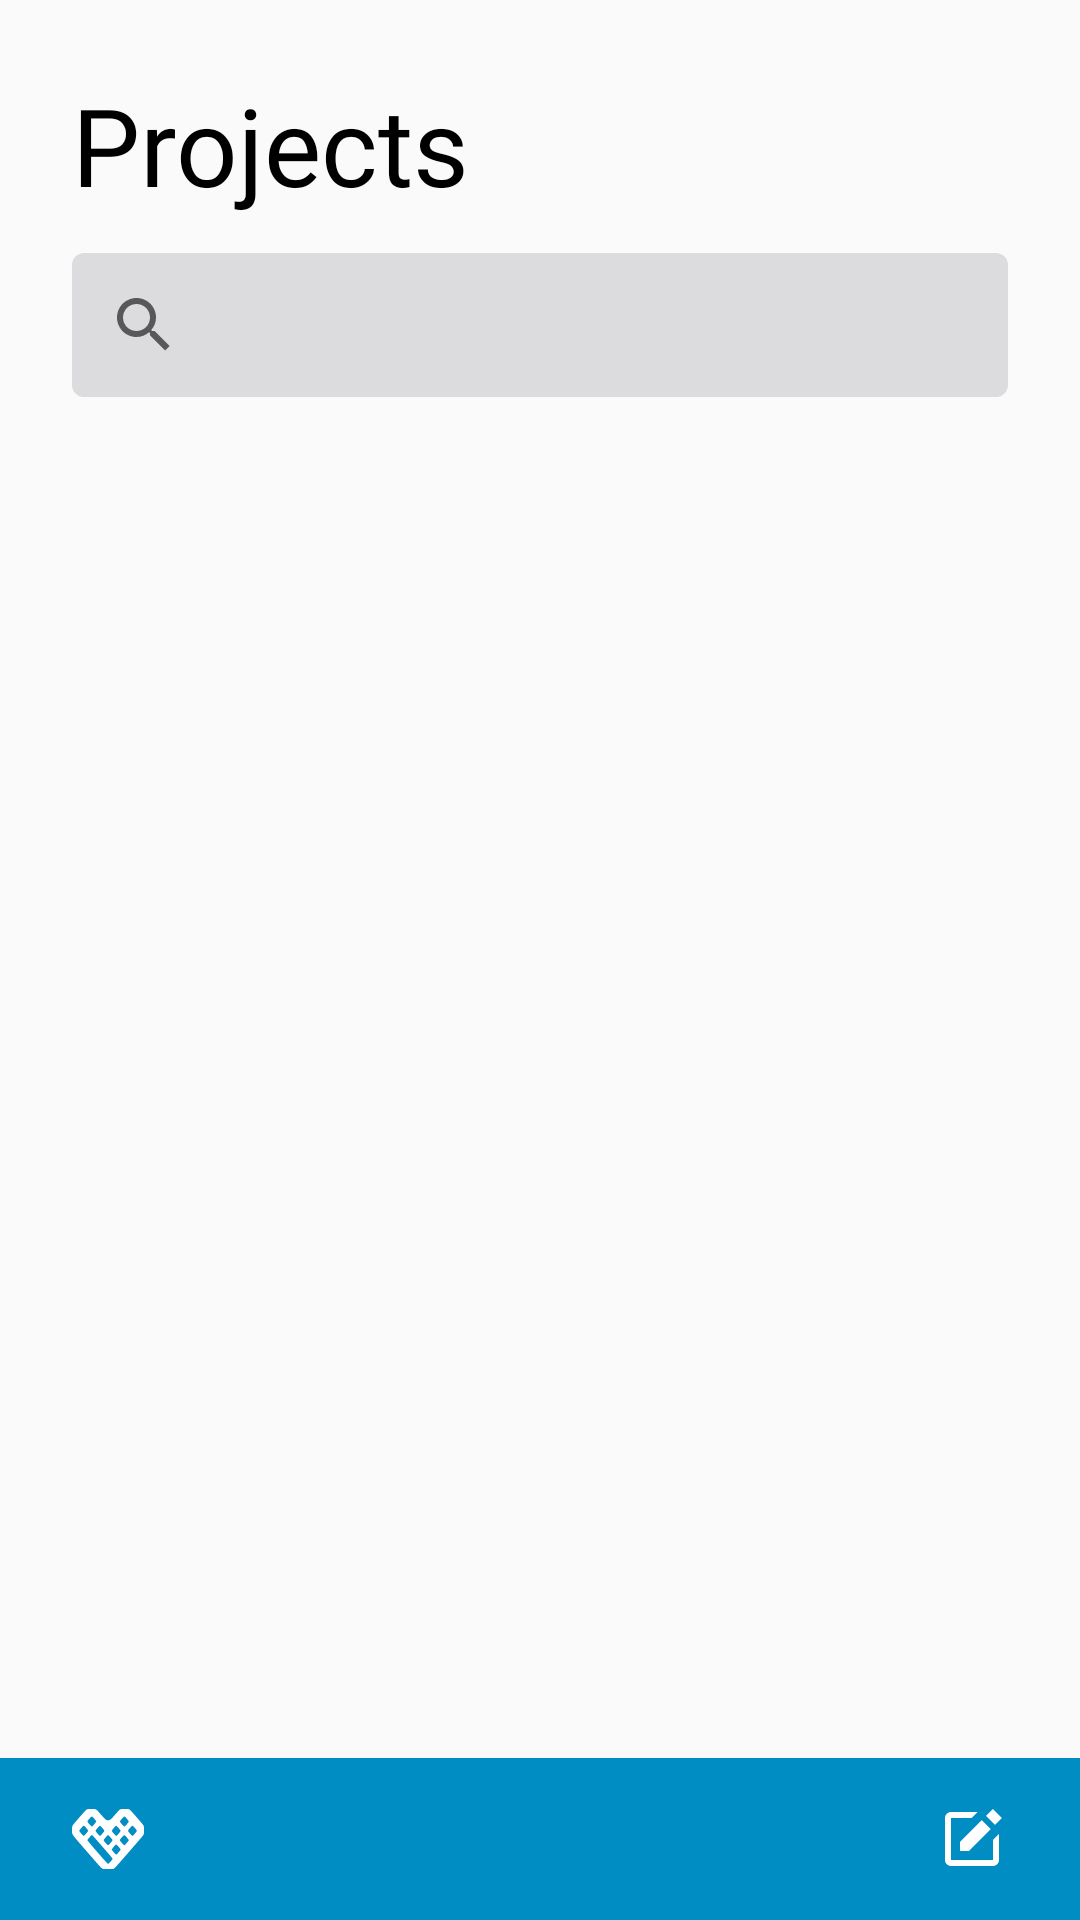

Point at icon controls on the screen. Image size 1080x1920, points as point (x, y).
edit: point (973, 1837)
